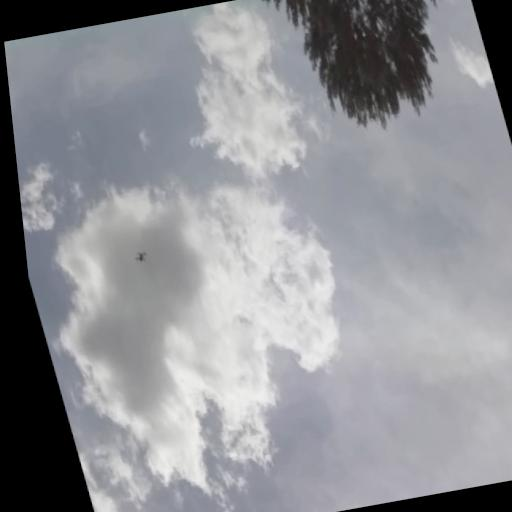drones: (130, 245, 153, 266)
